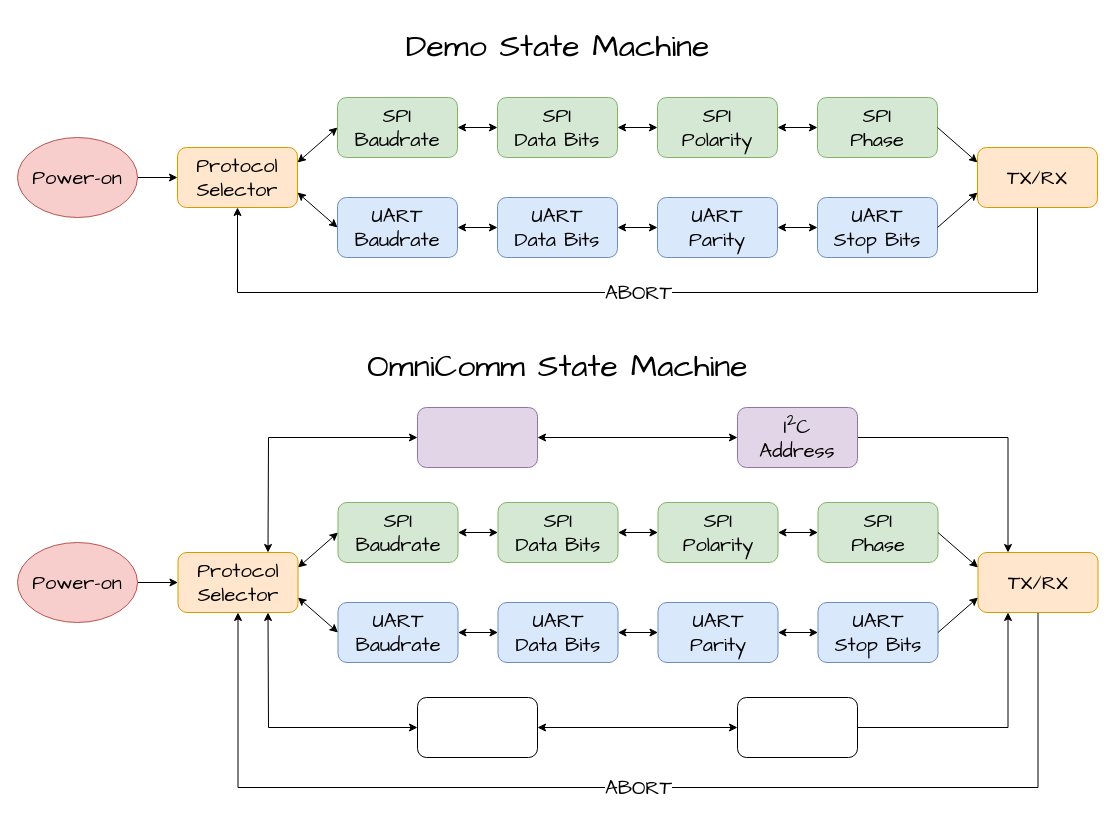
This 1116x818 diagram has some shape labels left out. The centre of each missing label's shape, as x and y in pixels:
"CAN Baudrate" goes at [477,727].
"CAN Data Masks" goes at [797,727].
"I 2 C Baudrate" goes at [477,437].
